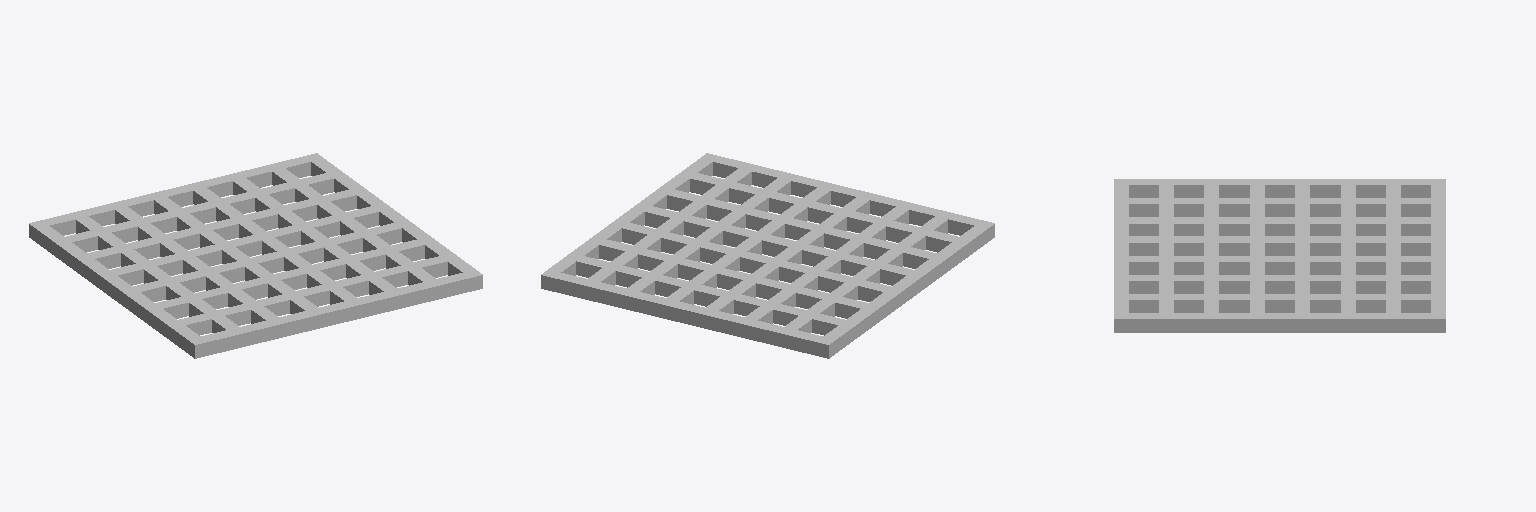
File: 10-Suelo_Metal.obj
The picture shows the model from 3 angles: view 1: azimuth 30°, elevation 25°; view 2: azimuth 150°, elevation 25°; view 3: azimuth 270°, elevation 25°; orthographic projection.
Visible parts, largest first — view 1: Suelo_Metal; view 2: Suelo_Metal; view 3: Suelo_Metal.
Boxes of the visible parts, <box> form: Suelo_Metal: <box>29,153,482,358</box>; Suelo_Metal: <box>541,153,994,358</box>; Suelo_Metal: <box>1114,179,1445,332</box>.
Size of the model in its own units: 2.2 by 0.1 by 2.2.